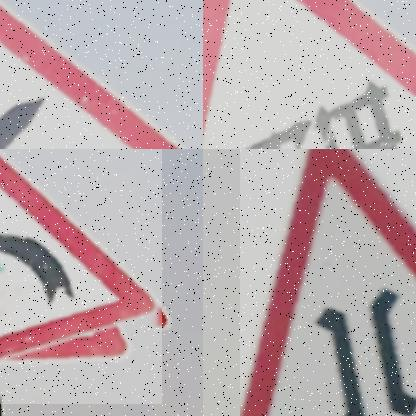Bridge Ahead: (245, 149, 416, 416)
Left bend: (0, 158, 162, 367)
Railway Crossing: (203, 0, 416, 149)
Right bend: (0, 13, 182, 149)
